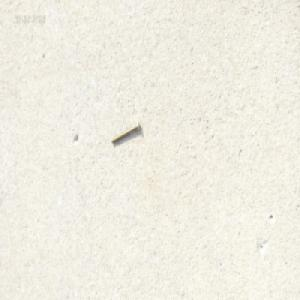Bolt: (110, 120, 140, 144)
